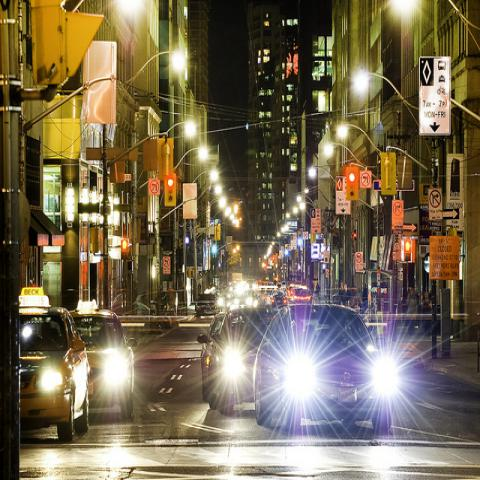car: (254, 304, 392, 433), (18, 289, 88, 435), (210, 309, 277, 417), (70, 312, 136, 415), (197, 310, 226, 409), (195, 291, 217, 319), (285, 283, 313, 303), (239, 289, 258, 310)
